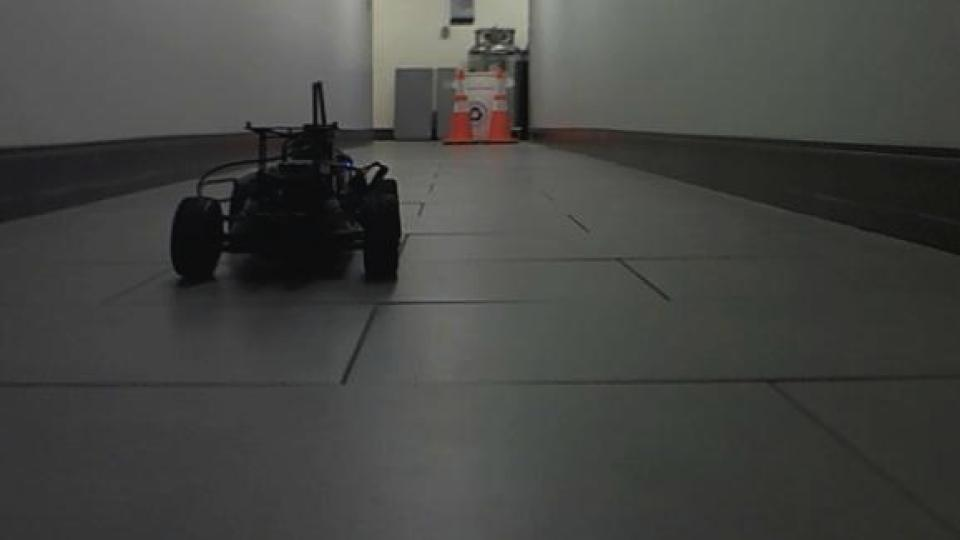car: (168, 78, 407, 290)
